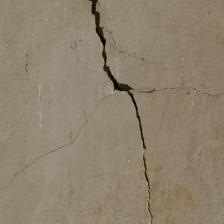Crack: (27, 3, 105, 115), (0, 71, 102, 122), (26, 63, 58, 163), (20, 95, 156, 114)
